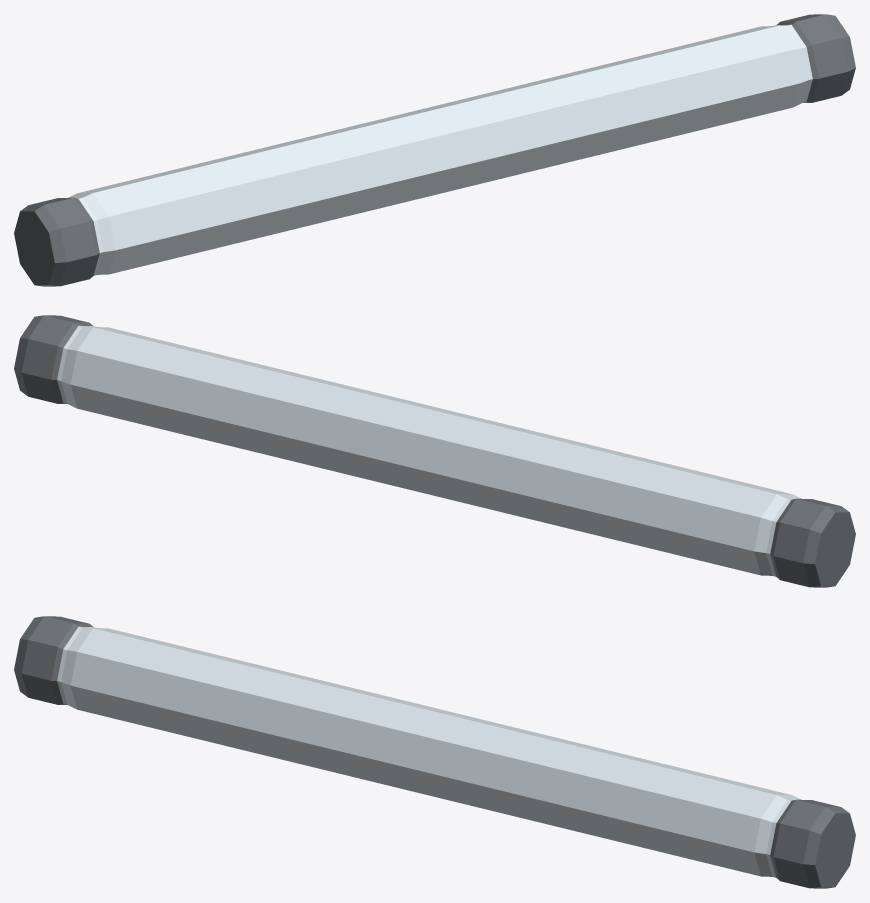
File: Tl_light.fbx
The picture shows the model from 3 angles, top to bottom: view 1: azimuth 30°, elevation 25°; view 2: azimuth 150°, elevation 25°; view 3: azimuth 330°, elevation 25°; orthographic projection.
Parts seen in each view (by area): view 1: pCylinder1; view 2: pCylinder1; view 3: pCylinder1.
Part boxes in pixels (box(x1,y1,x2,y2)): pCylinder1: box(14, 14, 855, 286); pCylinder1: box(14, 315, 855, 587); pCylinder1: box(14, 616, 855, 888).
Bounding box in the file's own units: 1.03 × 0.1 × 0.1.
